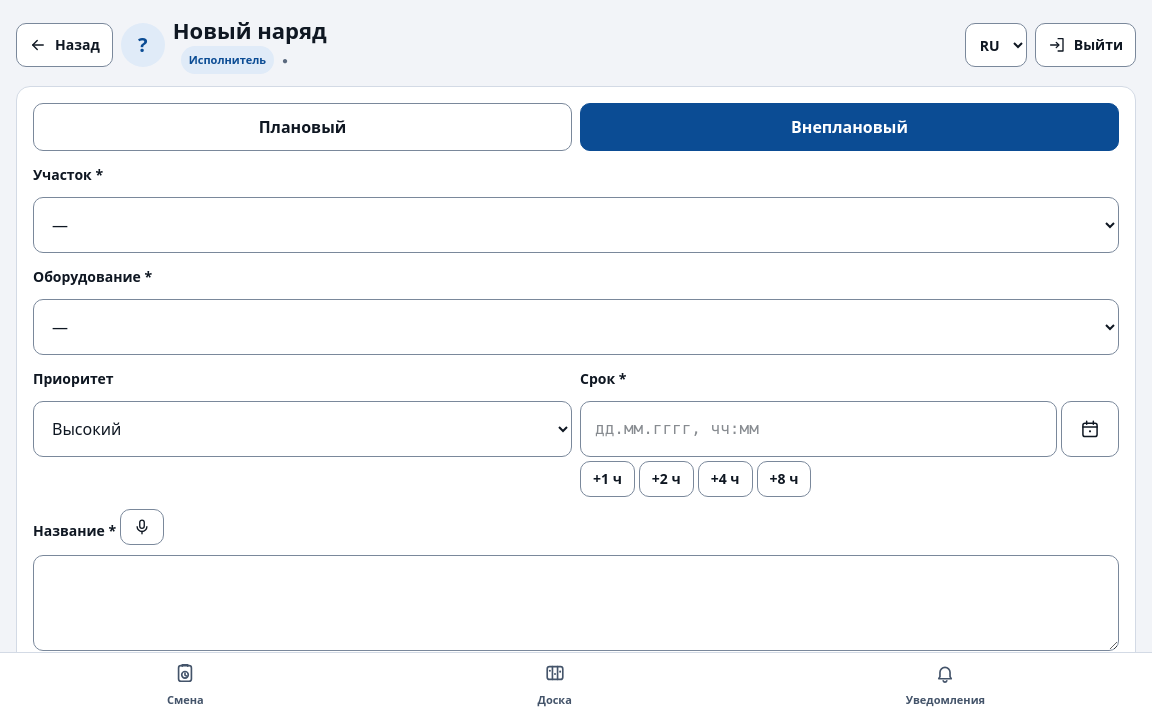
Scenario: MasterNew kind and validation › shows the first backend validation detail
The width and height of the screenshot is (1152, 720).
Select "Участок 1" in the dropdown labelled "Участок *" at (576, 225), box [33,197,1119,253]
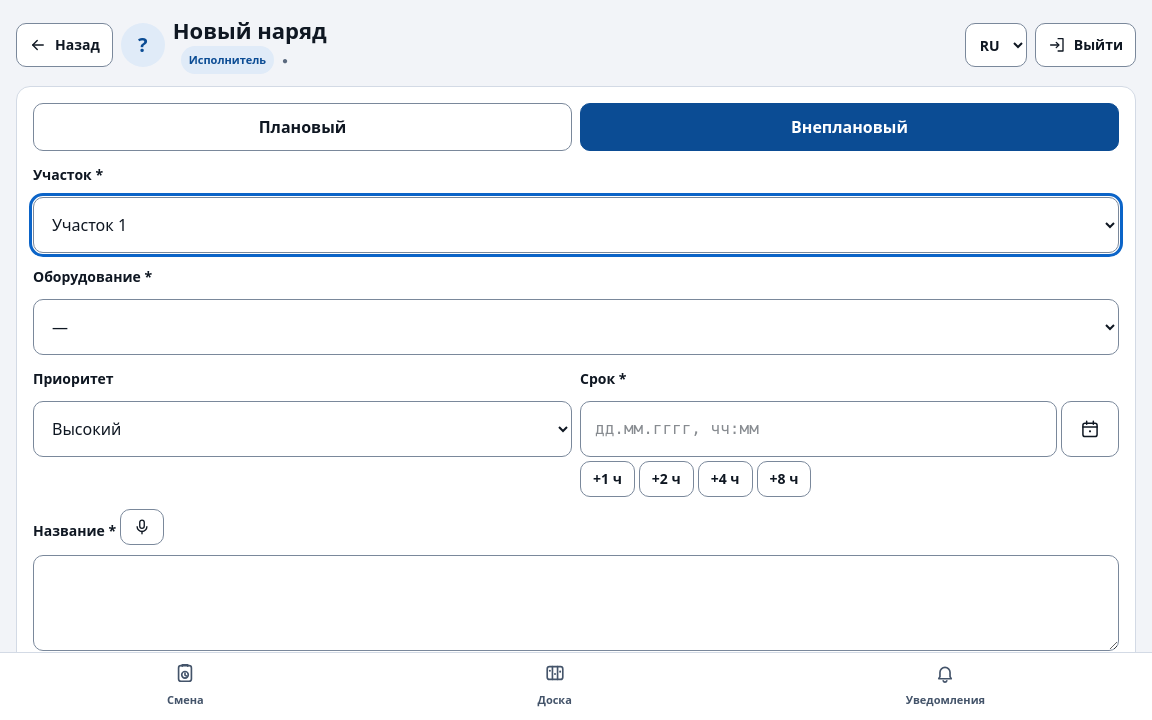
Select "Насос 1" in the dropdown labelled "Оборудование *" at (576, 327), box [33,299,1119,355]
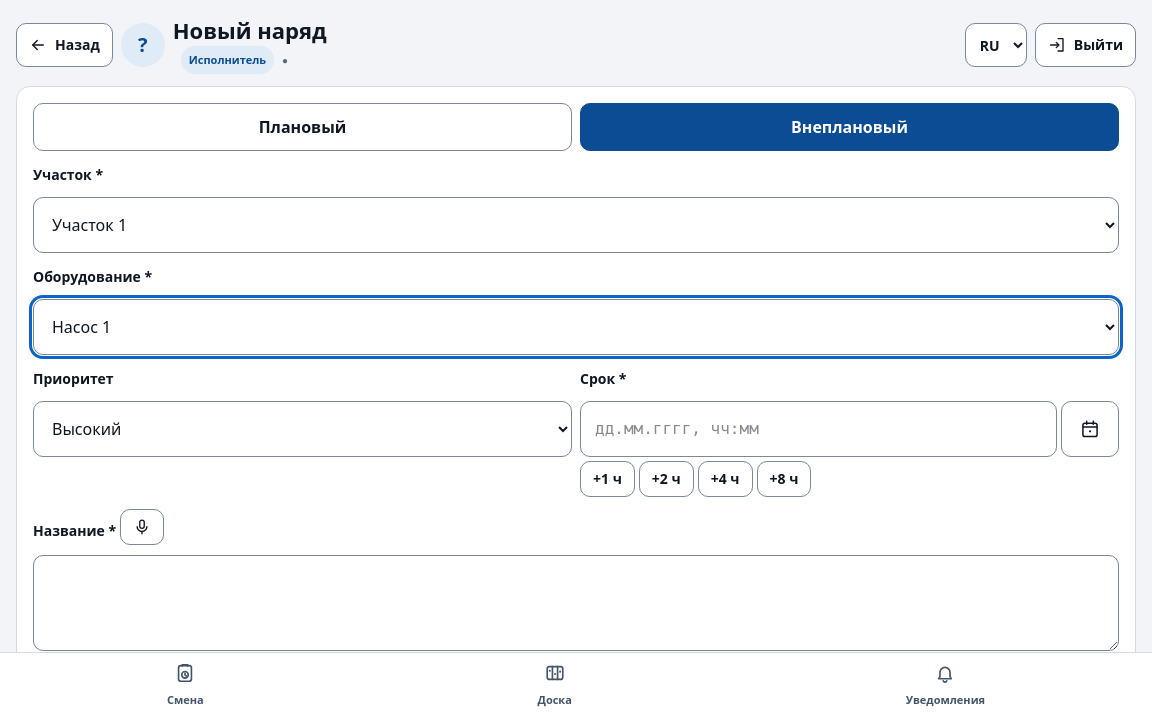
Type "12.10.2026, 09:05" into the field with placeholder "дд.мм.гггг, чч:мм".
click(818, 429); type("12.10.2026, 09:05")  # box [580,401,1057,457]
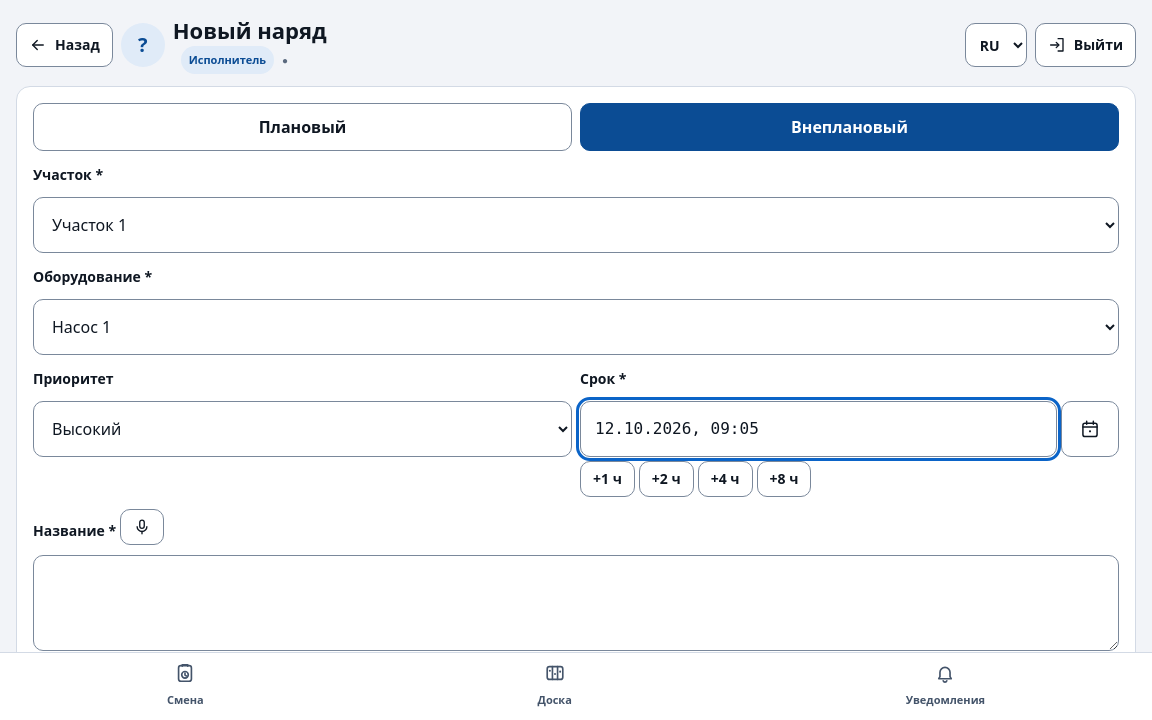
Type "Течь масла из редуктора" into the text box labelled "Название *".
click(576, 603); type("Течь масла из редуктора")  # box [33,555,1119,651]
(page scrolled)
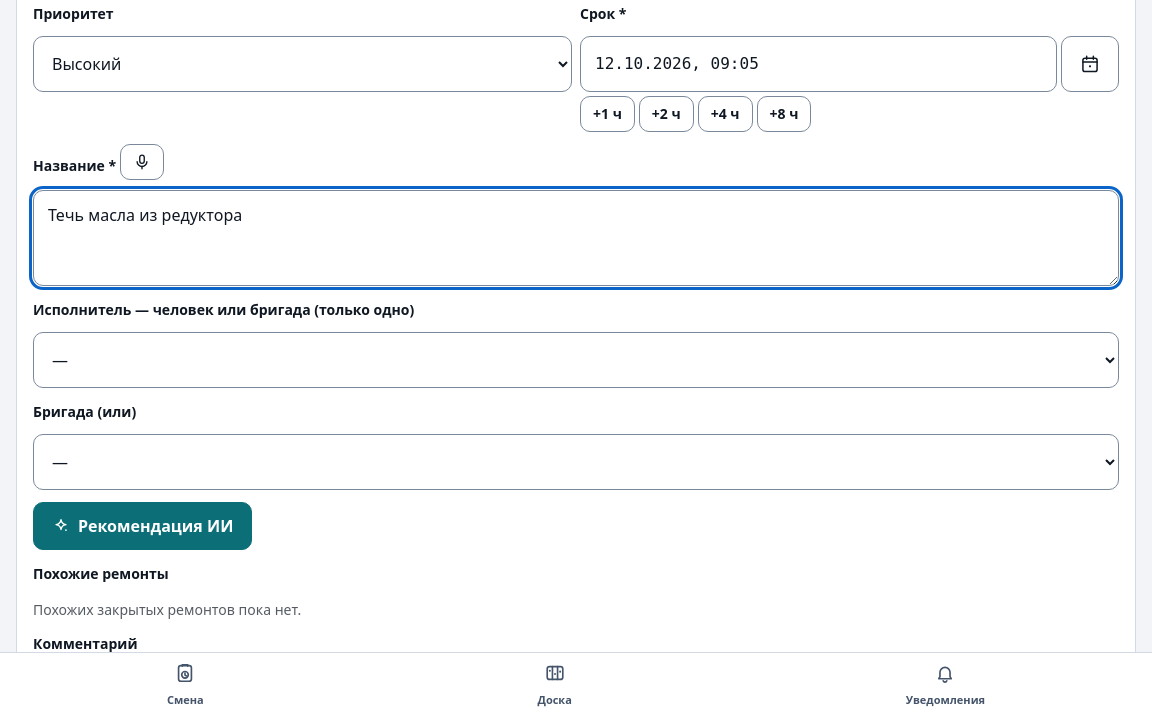
Select "Иван · Свободен" in the dropdown labelled "Исполнитель — человек или бригада (только одно)" at (576, 360), box [33,332,1119,388]
(page scrolled)
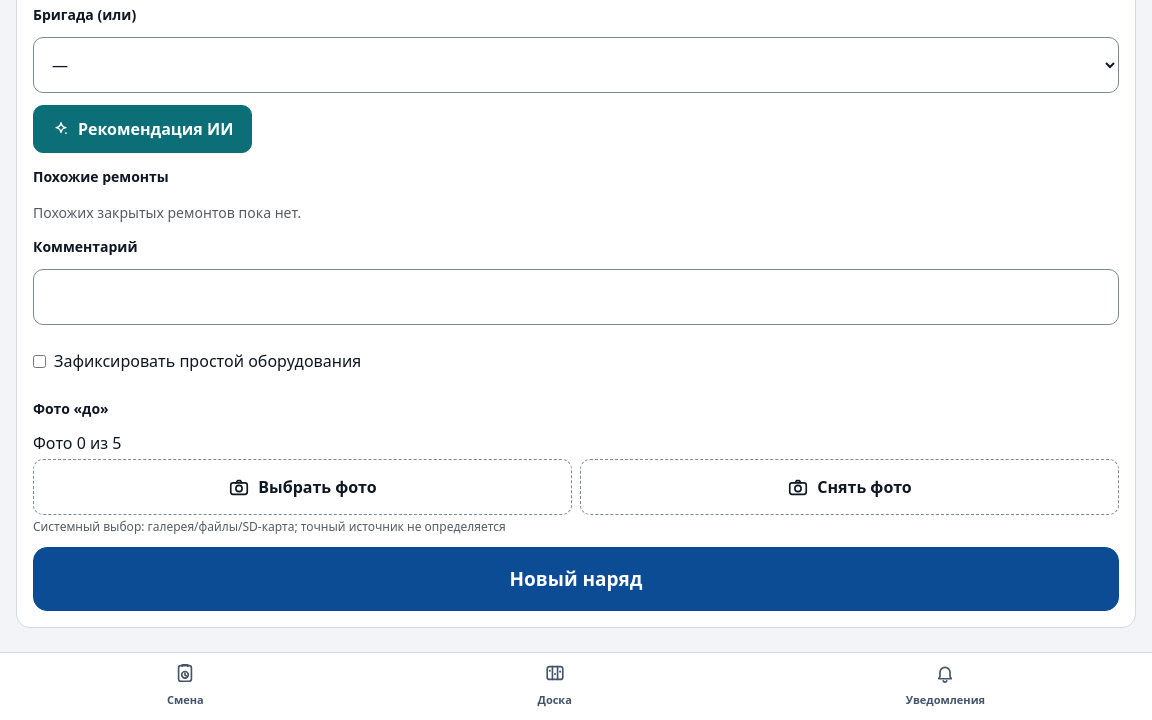
Click the button "Новый наряд".
click(576, 579)  # box [33,547,1119,611]
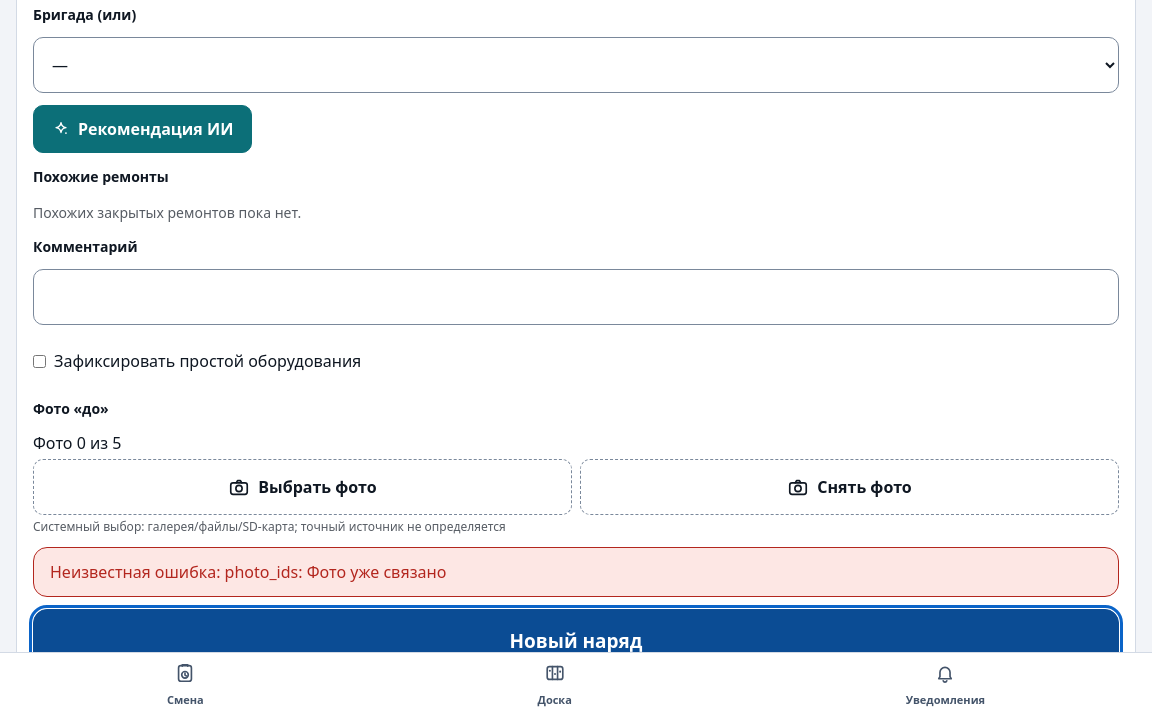
Expected: the text "Неизвестная ошибка: photo_ids: Фото уже связано" is shown, [50,561,446,583]
